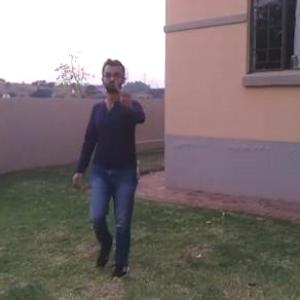takeoff-hand: (108, 85, 134, 110)
